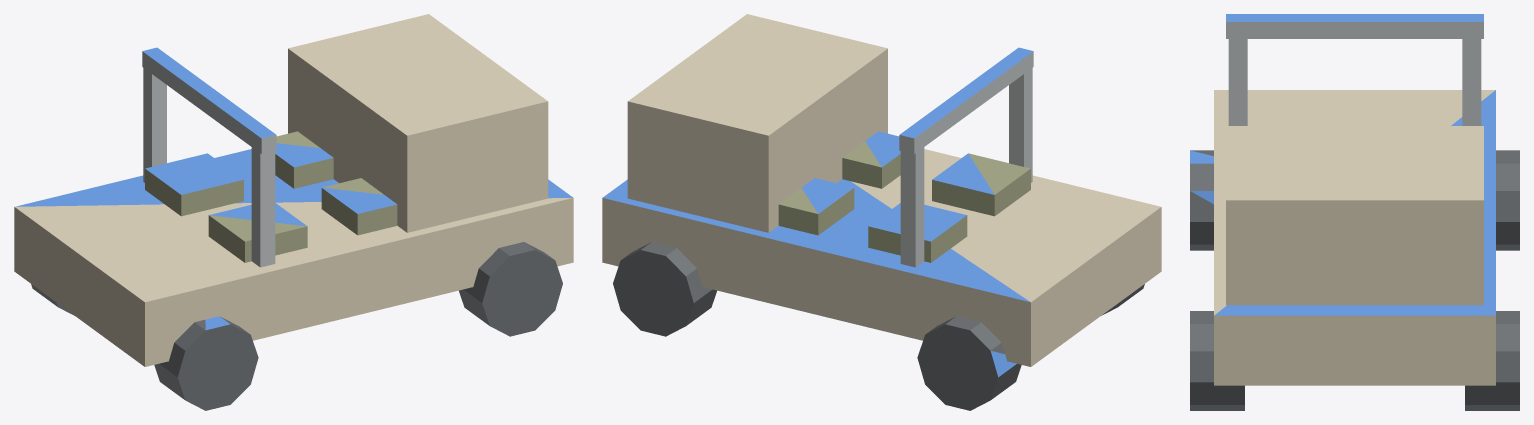
The model's file is meridian_light_transport.glb.
3 views of the same model, side by side, from view 1: azimuth 30°, elevation 25°; view 2: azimuth 150°, elevation 25°; view 3: azimuth 270°, elevation 25° (orthographic). The views are drawn at different scales.
Parts seen in each view (by area): view 1: hull; view 2: hull; view 3: hull.
Boxes of the visible parts, x1=… form: hull: x1=14, y1=14, x2=573, y2=410; hull: x1=602, y1=14, x2=1161, y2=410; hull: x1=1190, y1=14, x2=1519, y2=410.
Size of the model in its own units: 3.42 by 1.85 by 2.11.
